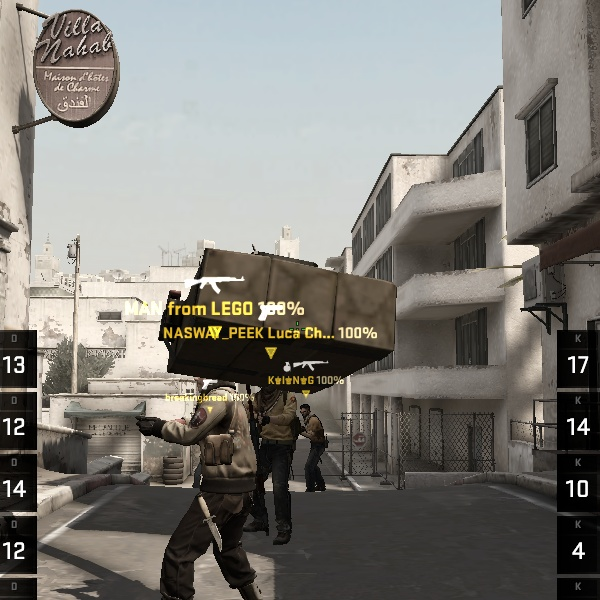t_body: (140, 375, 261, 600), (248, 387, 297, 544), (298, 403, 329, 492)
t_head: (299, 404, 311, 419)
